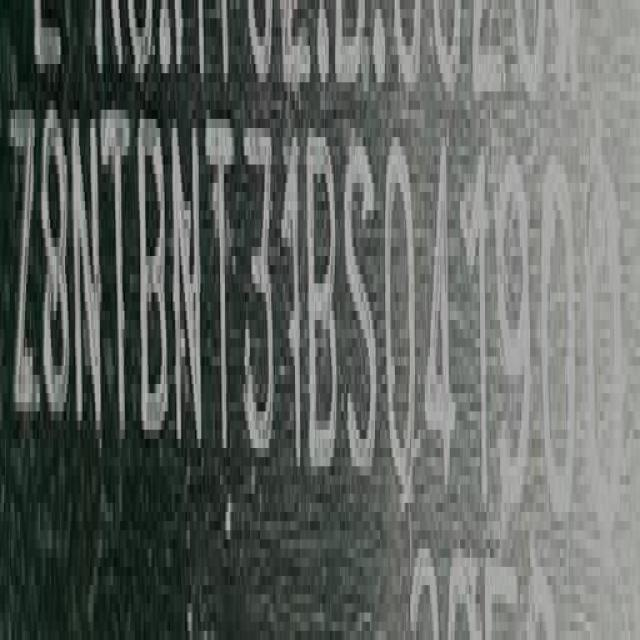0: (583, 152, 622, 545), (538, 152, 576, 522), (381, 145, 419, 504)
1: (468, 124, 493, 518), (281, 115, 305, 478)
3: (236, 112, 276, 463)
4: (422, 141, 456, 499)
8: (41, 116, 71, 440)
9: (494, 160, 534, 499)
B: (135, 94, 168, 458), (305, 130, 339, 481)
N: (168, 108, 204, 444), (70, 98, 103, 444)
S: (343, 127, 381, 499)
T: (99, 105, 134, 444), (206, 119, 237, 463)
Z: (7, 86, 41, 440)
